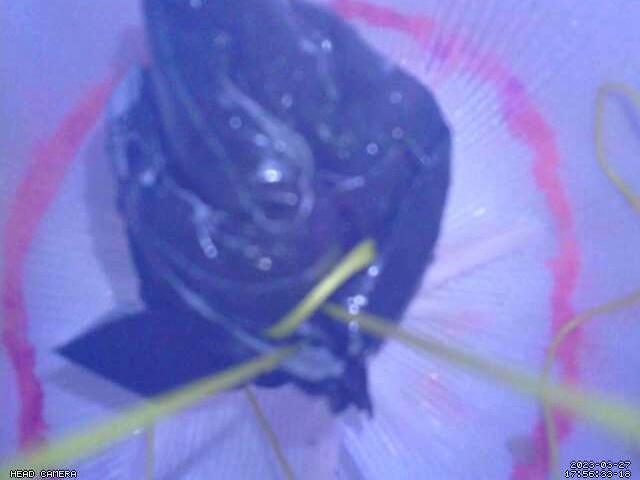head: (1, 1, 582, 480)
